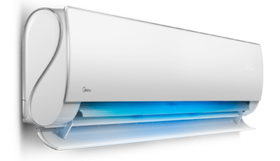ac: (19, 2, 266, 147)
